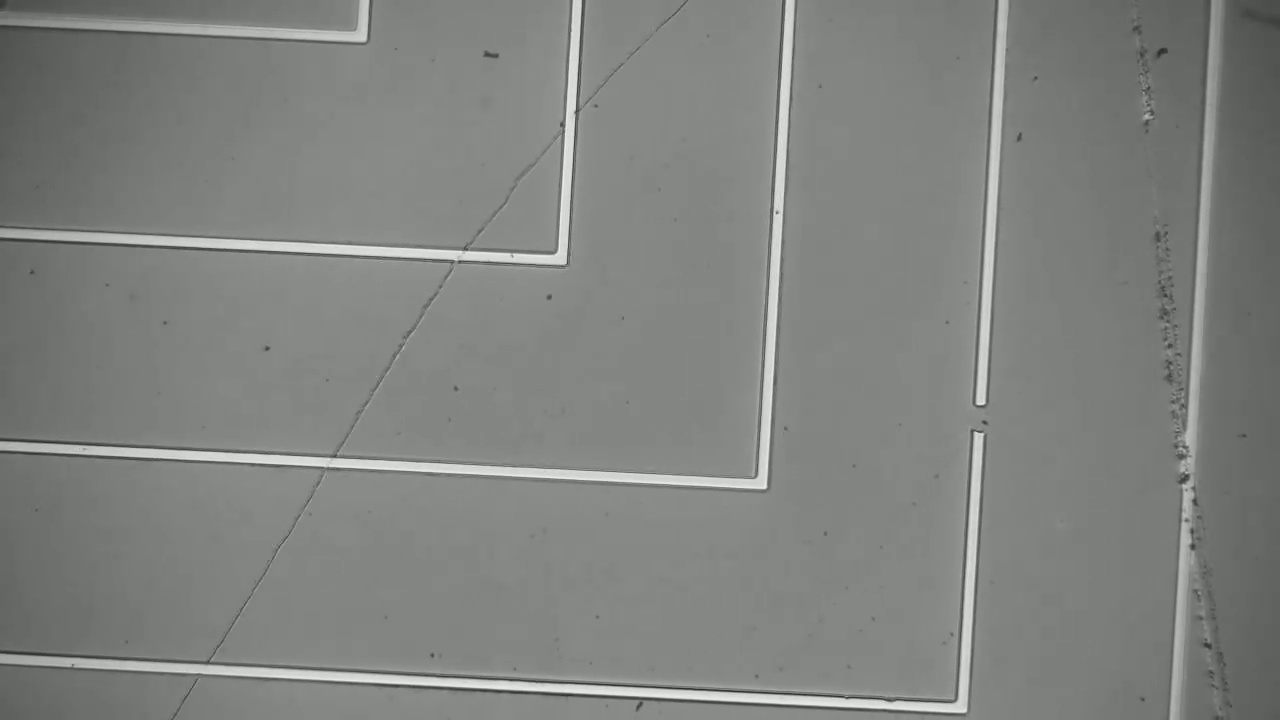open: (955, 377, 1008, 451)
scratch: (168, 10, 688, 718), (1123, 13, 1237, 693)
